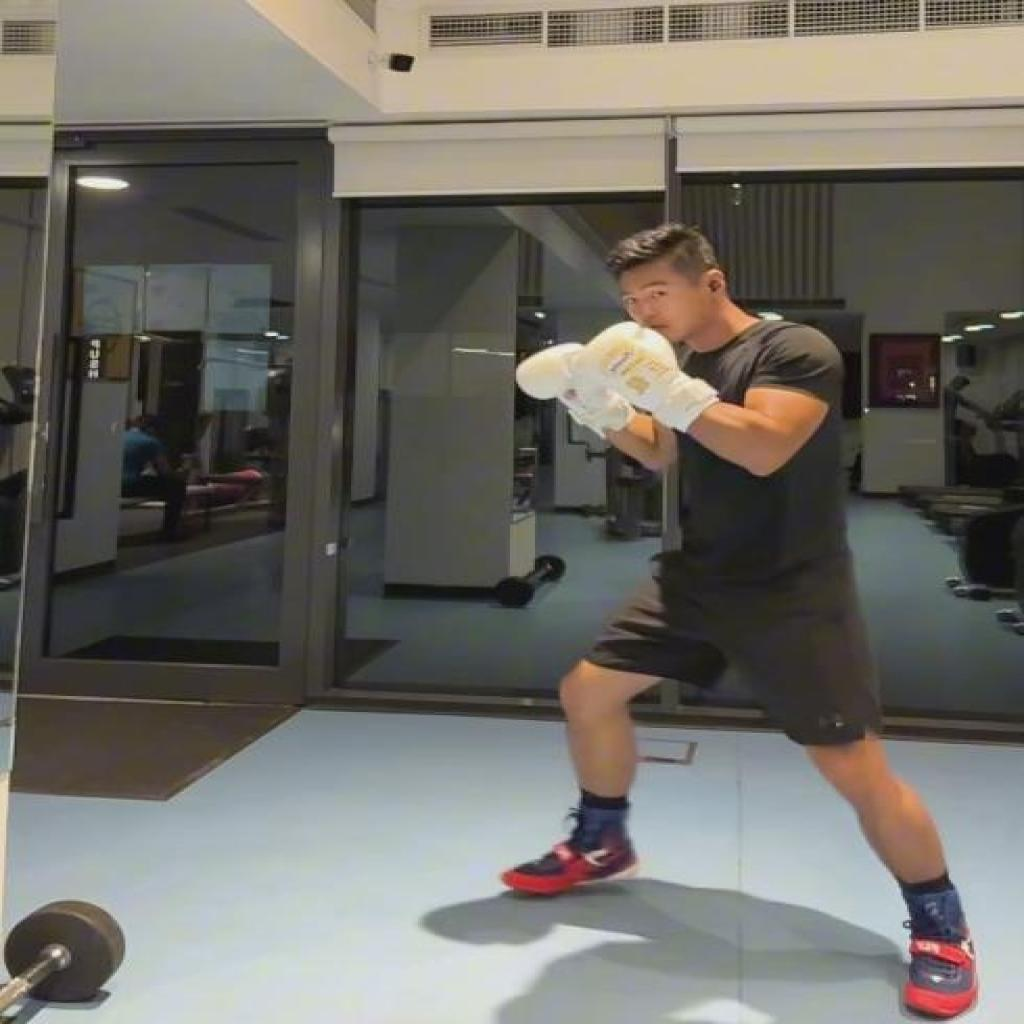no punch: (491, 219, 984, 1024)
